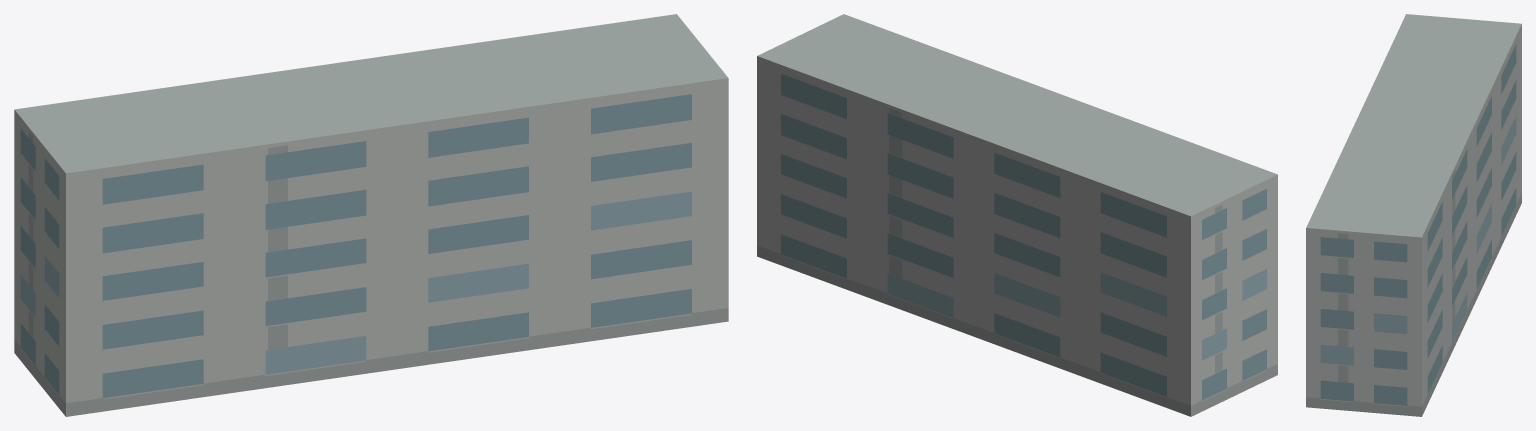
The model's file is residential-946950df-876f-4034-b033-dfe057f4d87f.glb.
3 views of the same model, side by side, from view 1: azimuth 30°, elevation 25°; view 2: azimuth 150°, elevation 25°; view 3: azimuth 270°, elevation 25° (orthographic). The views are drawn at different scales.
Parts seen in each view (by area): view 1: residential-946950df-876f-4034-b033-dfe057f4d87f.tmp; view 2: residential-946950df-876f-4034-b033-dfe057f4d87f.tmp; view 3: residential-946950df-876f-4034-b033-dfe057f4d87f.tmp.
Boxes of the visible parts, box(x1,y1,x2,y2) form: residential-946950df-876f-4034-b033-dfe057f4d87f.tmp: box(14, 14, 728, 416); residential-946950df-876f-4034-b033-dfe057f4d87f.tmp: box(757, 14, 1277, 416); residential-946950df-876f-4034-b033-dfe057f4d87f.tmp: box(1306, 14, 1521, 416).
Bounding box in the file's own units: 40.76 × 15.25 × 16.63.
